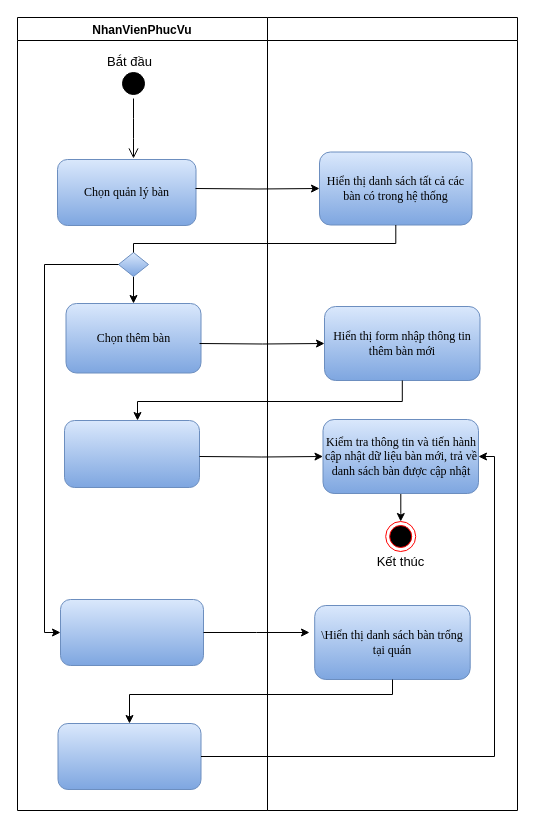
This 535x828 diagram has some shape labels left out. The box of each missing label's shape, as (x1, y1, x2, y2) in pixels:
Chọn bàn trống và xác nhận xóa: (57, 722, 201, 790)
Chọn xóa bàn: (60, 598, 204, 666)
HeThong: (266, 16, 518, 810)
Nhập số lượng bàn cần thêm: (64, 420, 200, 488)
